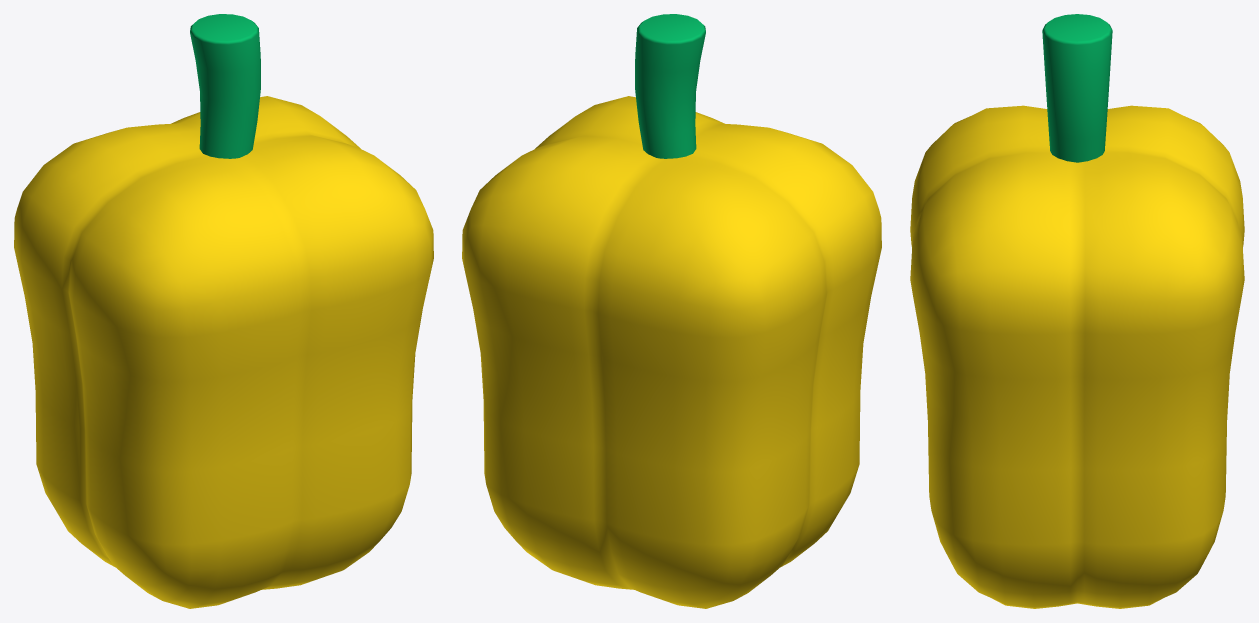
The model's file is Store_19_Pepper_1.glb.
The picture shows the model from 3 angles, left to right: view 1: azimuth 30°, elevation 25°; view 2: azimuth 150°, elevation 25°; view 3: azimuth 270°, elevation 25°; orthographic projection.
Visible parts, largest first — view 1: Store_19_Pepper_1; view 2: Store_19_Pepper_1; view 3: Store_19_Pepper_1.
Boxes of the visible parts, x1,y1,x2,y2 form: Store_19_Pepper_1: [14, 14, 433, 608]; Store_19_Pepper_1: [462, 14, 881, 608]; Store_19_Pepper_1: [910, 14, 1244, 608].
Bounding box in the file's own units: 0.3124 × 0.5018 × 0.2757.
Materials: 1 (1 with a texture image).
